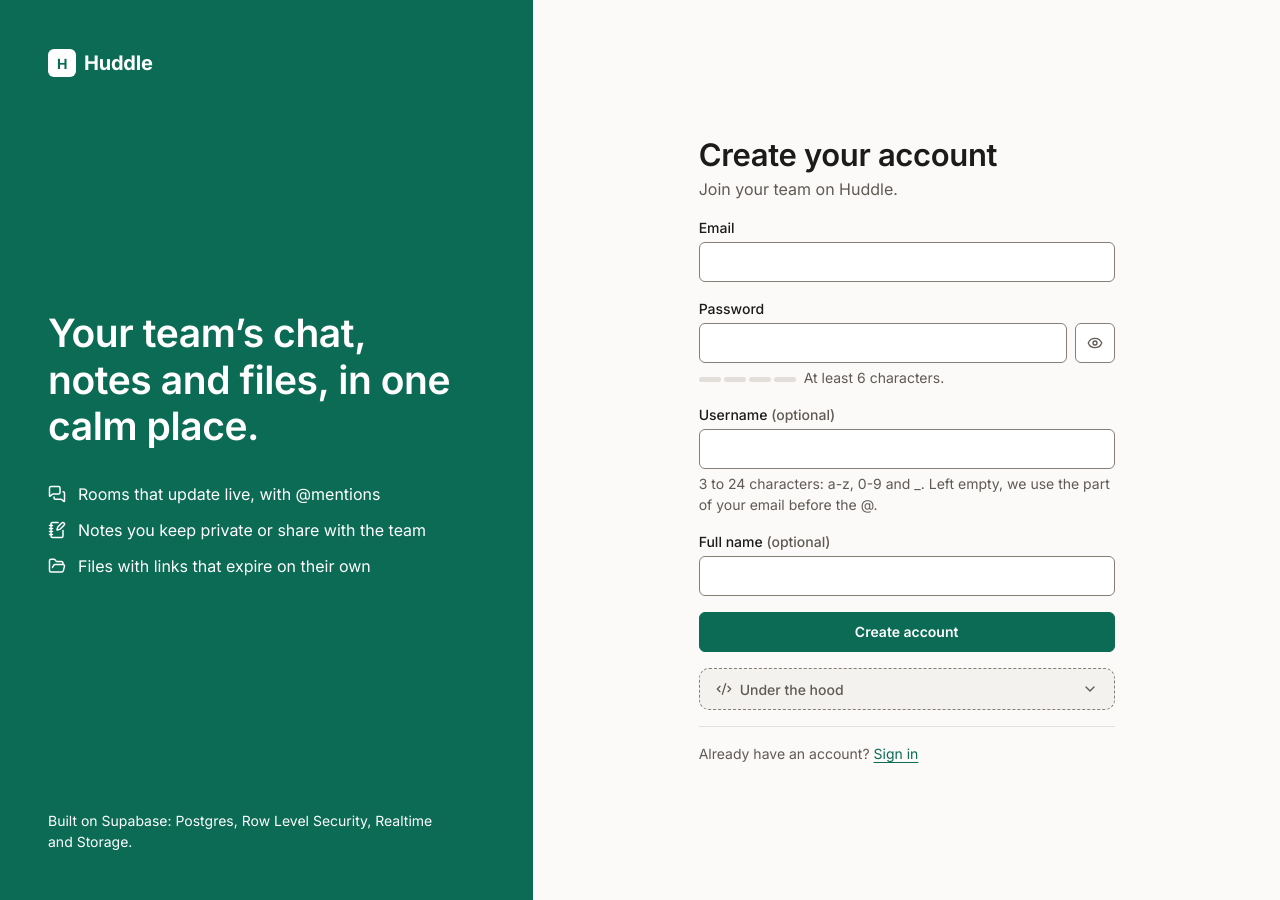
Test: RegisterPage › requires a 6 character password
The width and height of the screenshot is (1280, 900).
Type "a@b.co" into the field labelled "Email" at (907, 262), box [699,242,1115,282]
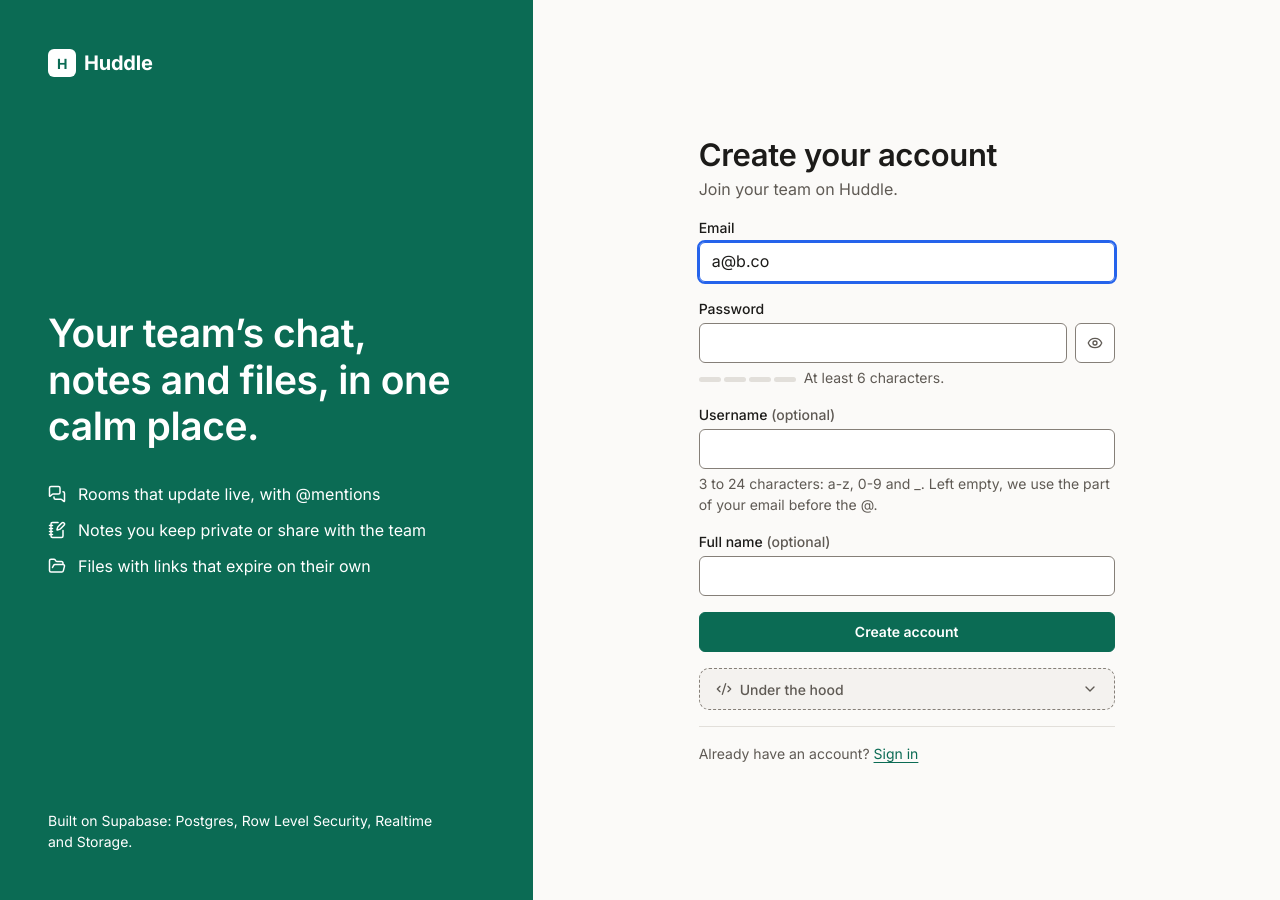
Type "123" into the password field labelled "Password" at (883, 343), box [699,323,1067,363]
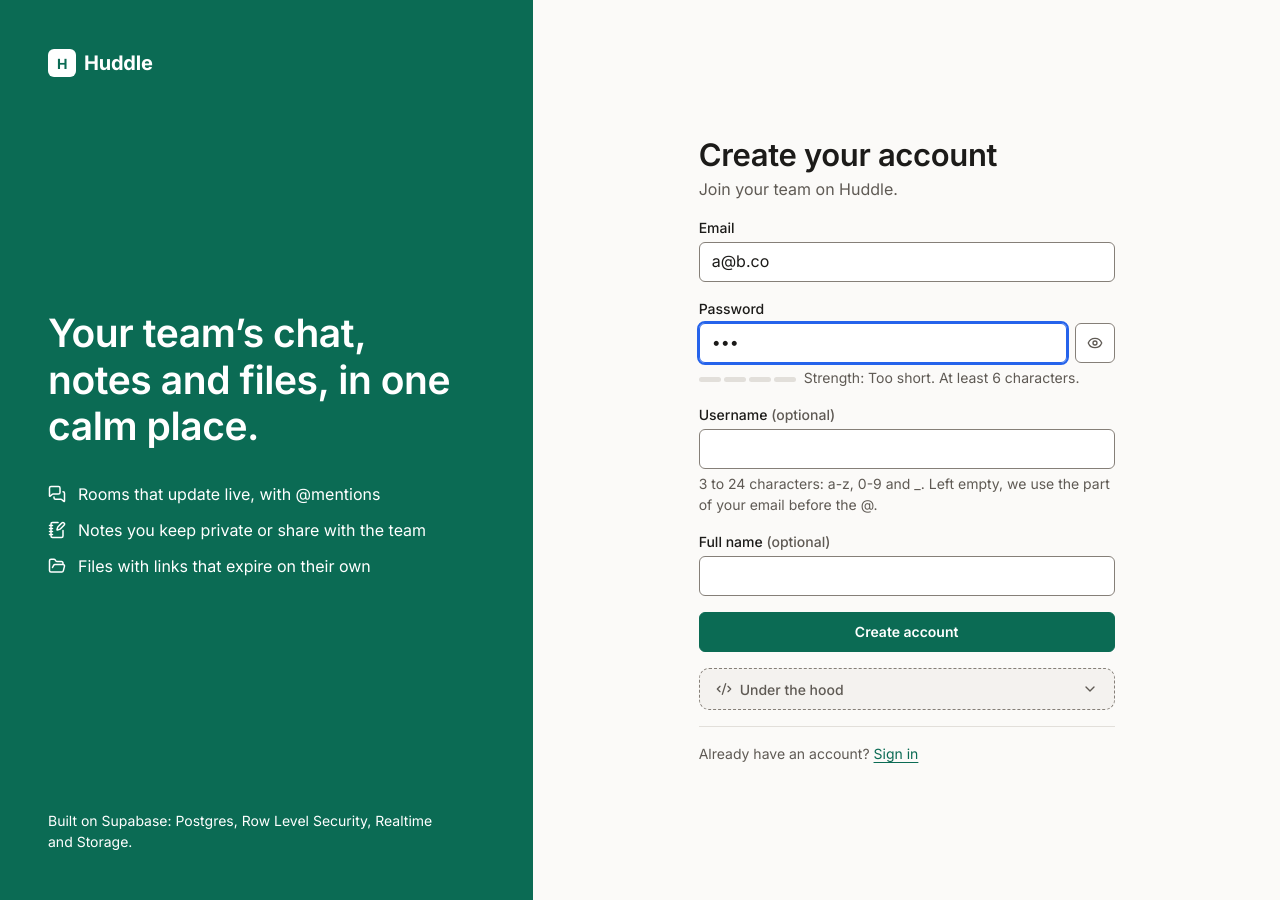
Click the button "Create account" at (907, 632), box [699,612,1115,652]
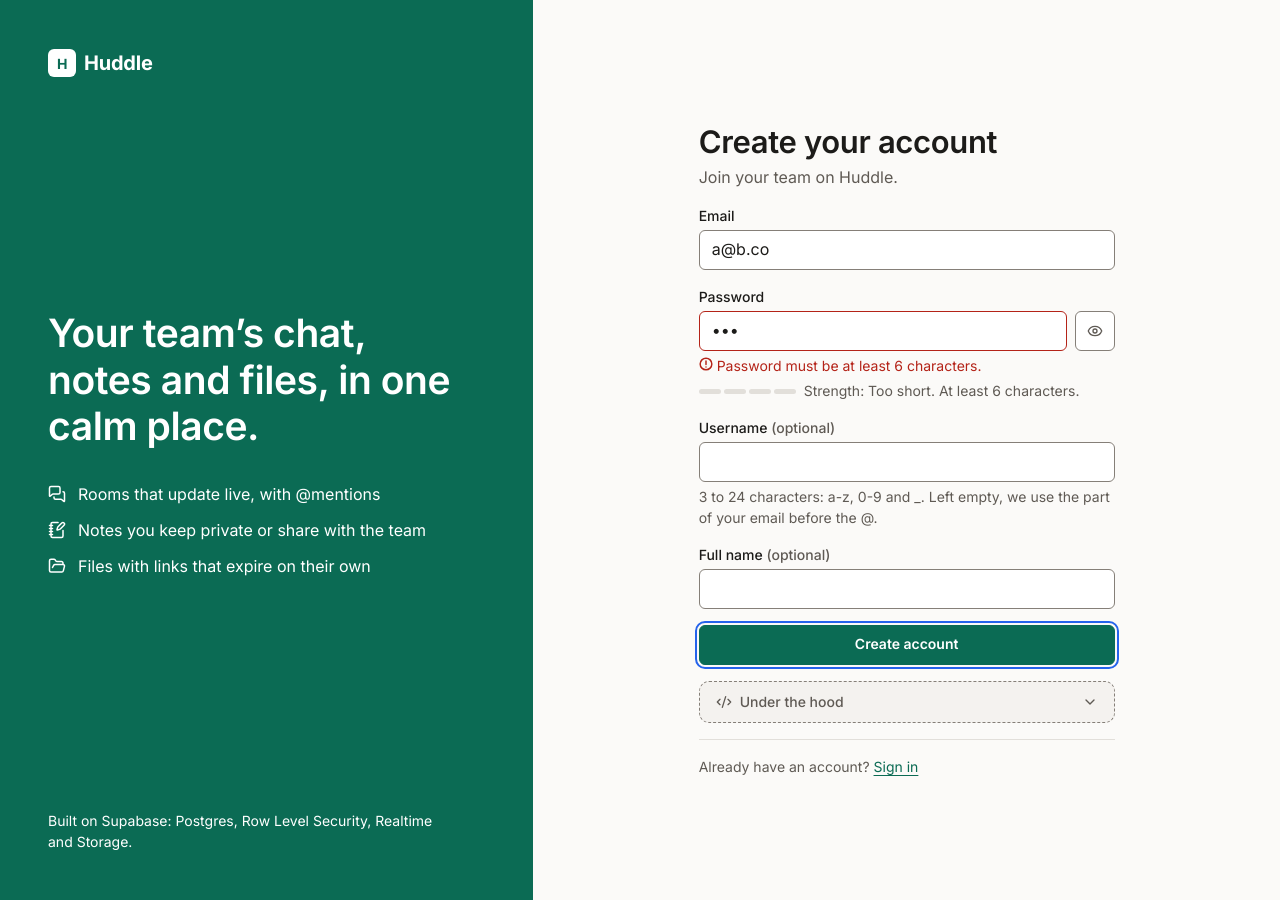
Now the message shows "at least 6", box [717,357,982,374]
